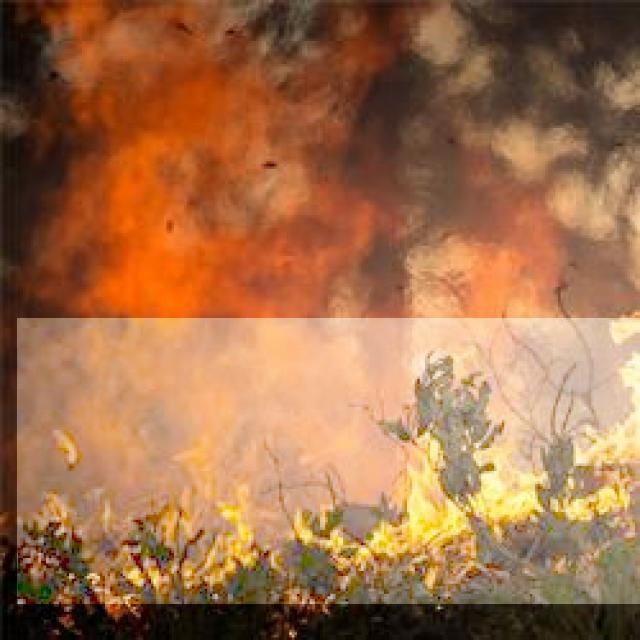Fire: (17, 318, 640, 604)
